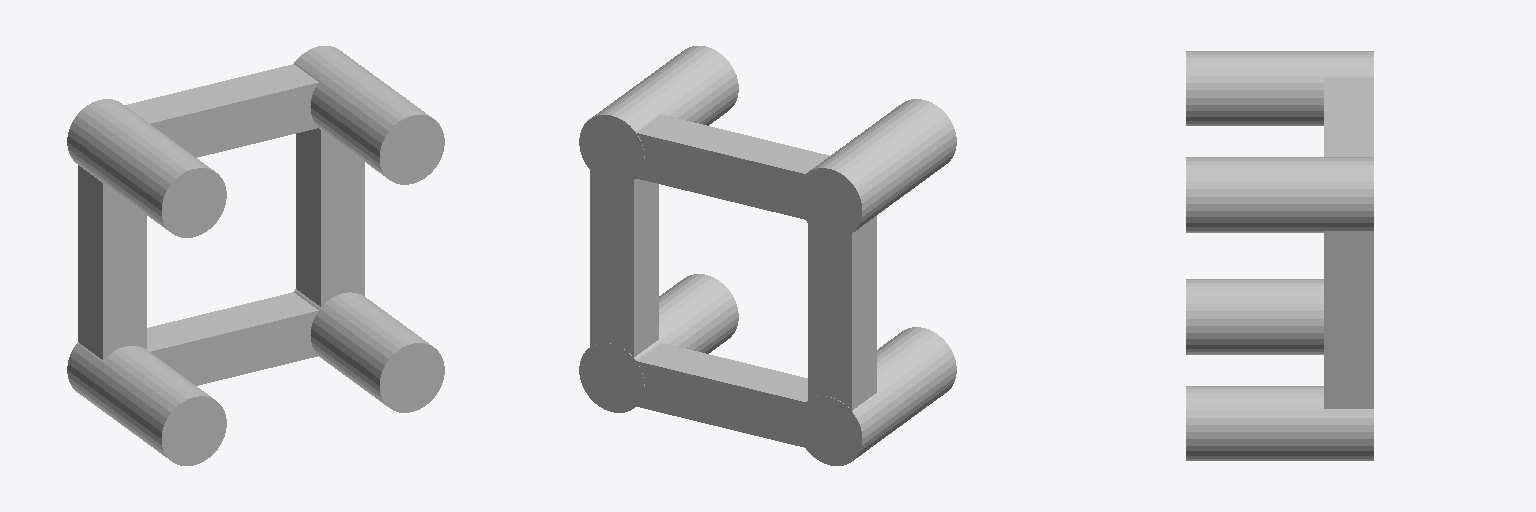
File: floater.obj
3 views of the same model, side by side, from view 1: azimuth 30°, elevation 25°; view 2: azimuth 150°, elevation 25°; view 3: azimuth 270°, elevation 25° (orthographic).
Bounding box in the file's own units: 104 × 104 × 60.